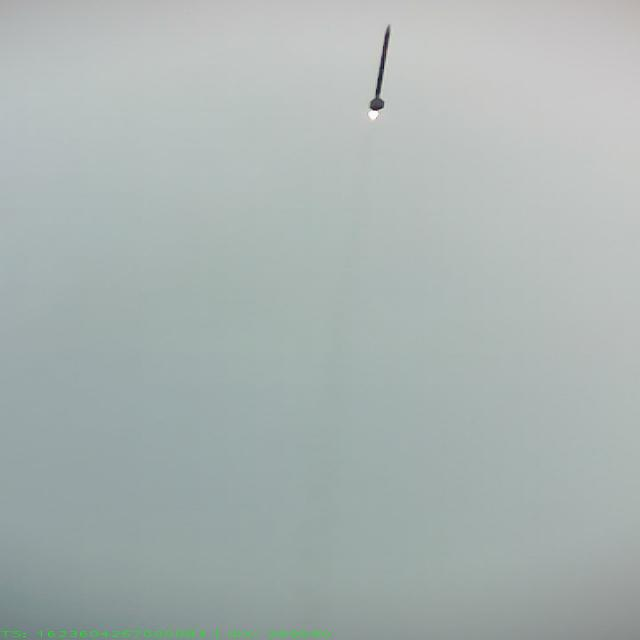Rocket: (368, 23, 391, 111)
